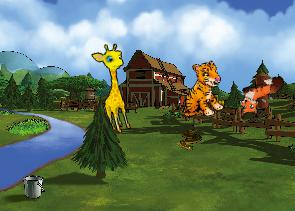fox: (231, 73, 291, 122)
giraffe: (89, 41, 142, 135)
tiger: (173, 59, 229, 122)
